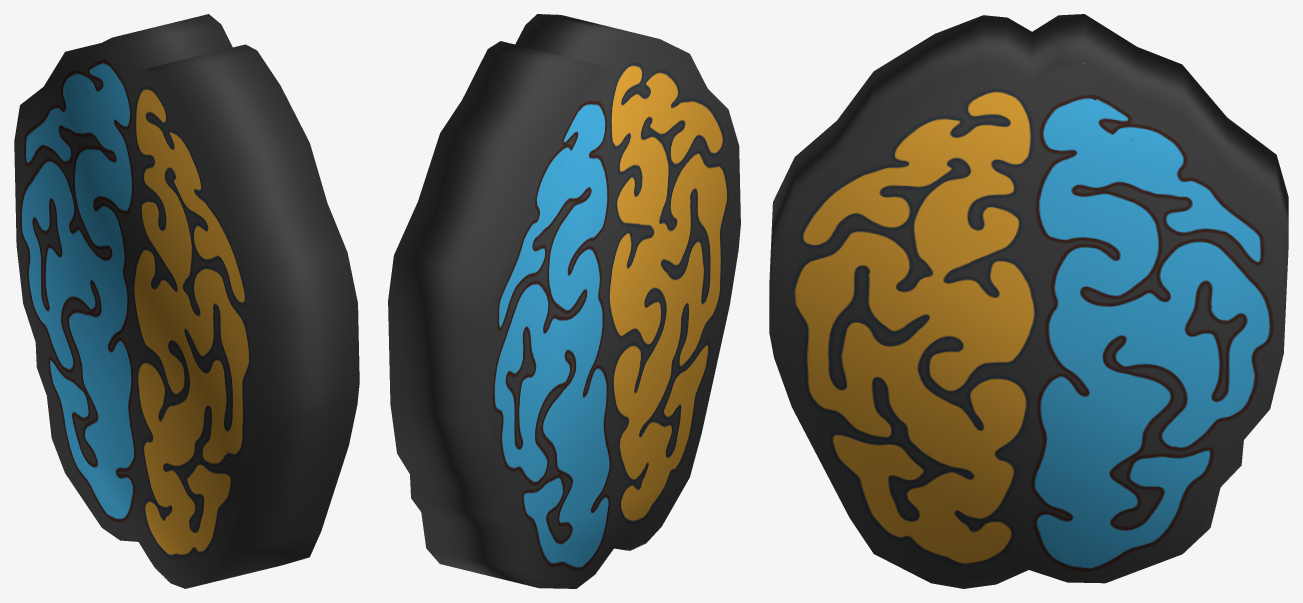
The model's file is brain.glb.
The picture shows the model from 3 angles, left to right: view 1: azimuth 30°, elevation 25°; view 2: azimuth 150°, elevation 25°; view 3: azimuth 270°, elevation 25°; orthographic projection. The views are drawn at different scales.
Visible parts, largest first — view 1: Cube; view 2: Cube; view 3: Cube.
Boxes of the visible parts, bbox=[...] form: Cube: bbox=[14, 14, 359, 588]; Cube: bbox=[388, 14, 740, 588]; Cube: bbox=[769, 14, 1288, 588].
Bounding box in the file's own units: 0.8236 × 4.08 × 3.66.
Materials: 1 (1 with a texture image).
